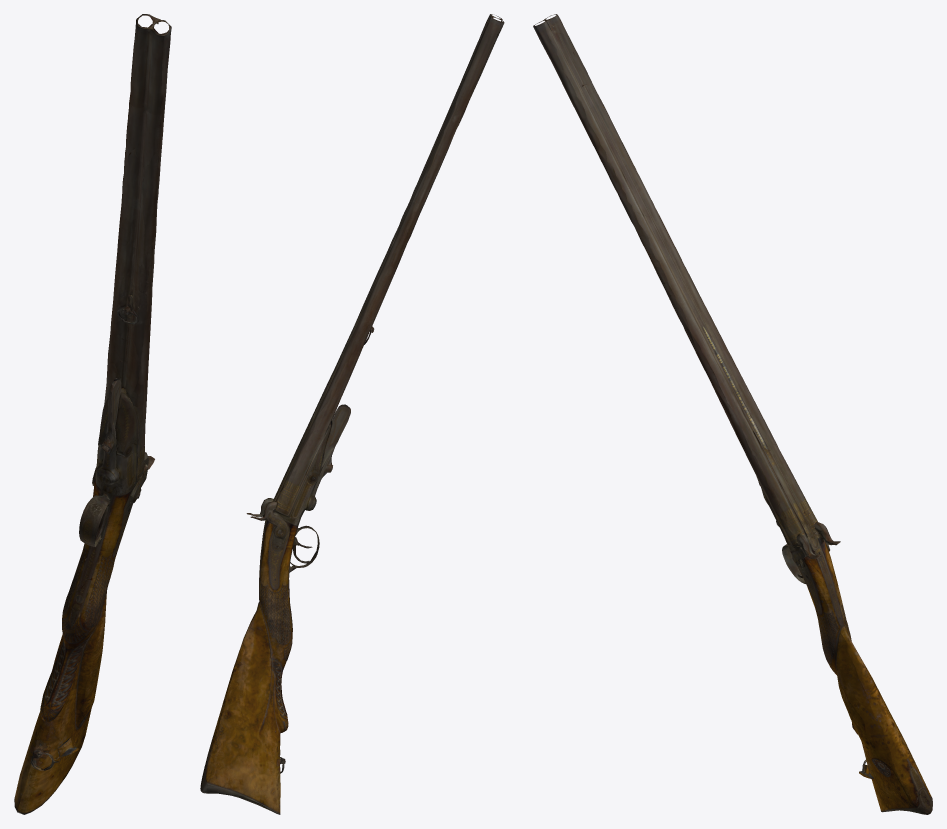
File: gun.glb
The picture shows the model from 3 angles, left to right: view 1: azimuth 30°, elevation 25°; view 2: azimuth 150°, elevation 25°; view 3: azimuth 270°, elevation 25°; orthographic projection. The views are drawn at different scales.
Visible parts, largest first — view 1: Copie de Copie de Sharp fusion 2; view 2: Copie de Copie de Sharp fusion 2; view 3: Copie de Copie de Sharp fusion 2.
Part boxes in pixels (x1,y1,x2,y2): Copie de Copie de Sharp fusion 2: [14, 14, 171, 814]; Copie de Copie de Sharp fusion 2: [200, 14, 504, 814]; Copie de Copie de Sharp fusion 2: [533, 14, 932, 814].
Size of the model in its own units: 0.2224 by 1.1 by 0.5235.
1 material, 1 textured.
